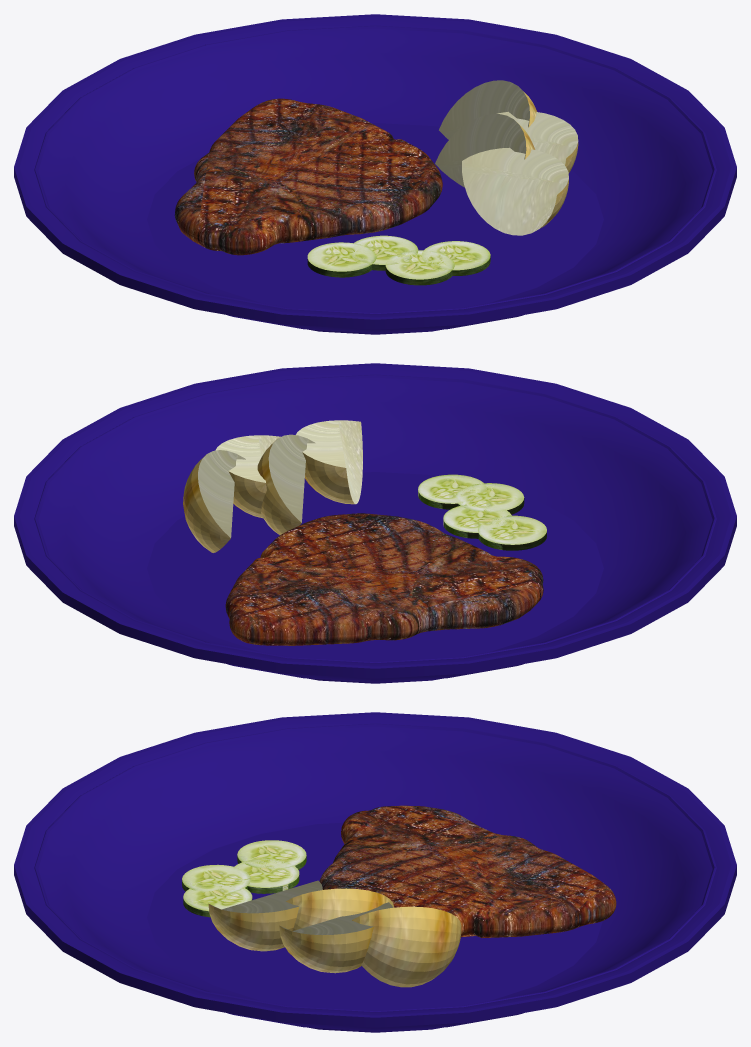
File: kentang rebus ayam panggang slur.fbx
3 renders of one model, top to bottom at view 1: azimuth 30°, elevation 25°; view 2: azimuth 150°, elevation 25°; view 3: azimuth 270°, elevation 25°, orthographic.
Parts seen in each view (by area): view 1: piring.002, steakmu su, Sphere.003, Sphere.002, Sphere.001, Sphere, Cylinder.002, Cylinder.001, Cylinder, Cylinder.003; view 2: piring.002, steakmu su, Sphere.003, Sphere.001, Sphere.002, Sphere, Cylinder.002, Cylinder, Cylinder.001, Cylinder.003; view 3: piring.002, steakmu su, Sphere.001, Sphere, Sphere.003, Sphere.002, Cylinder.002, Cylinder.003, Cylinder.001, Cylinder.
Part boxes in pixels (left/top/right/bottom): piring.002: left=14, top=14, right=736, bottom=334; steakmu su: left=174, top=98, right=442, bottom=255; Sphere.003: left=462, top=147, right=568, bottom=235; Sphere.002: left=435, top=114, right=535, bottom=187; Sphere.001: left=439, top=80, right=537, bottom=139; Sphere: left=497, top=111, right=578, bottom=173; Cylinder.002: left=307, top=242, right=376, bottom=277; Cylinder.001: left=385, top=250, right=454, bottom=285; Cylinder: left=421, top=241, right=490, bottom=275; Cylinder.003: left=350, top=235, right=418, bottom=270; piring.002: left=14, top=363, right=736, bottom=683; steakmu su: left=225, top=513, right=543, bottom=645; Sphere.003: left=296, top=420, right=362, bottom=504; Sphere.001: left=183, top=450, right=245, bottom=552; Sphere.002: left=257, top=434, right=315, bottom=535; Sphere: left=215, top=435, right=280, bottom=518; Cylinder.002: left=478, top=515, right=546, bottom=550; Cylinder: left=418, top=474, right=487, bottom=509; Cylinder.001: left=455, top=483, right=524, bottom=514; Cylinder.003: left=443, top=504, right=511, bottom=538; piring.002: left=14, top=712, right=736, bottom=1032; steakmu su: left=319, top=805, right=616, bottom=937; Sphere.001: left=352, top=906, right=461, bottom=987; Sphere: left=279, top=902, right=392, bottom=973; Sphere.003: left=208, top=880, right=322, bottom=951; Sphere.002: left=286, top=888, right=394, bottom=930; Cylinder.002: left=237, top=840, right=306, bottom=869; Cylinder.003: left=232, top=858, right=299, bottom=893; Cylinder.001: left=182, top=864, right=250, bottom=892; Cylinder: left=183, top=883, right=252, bottom=917.
Size of the model in its own units: 9706 by 1627 by 9706.
